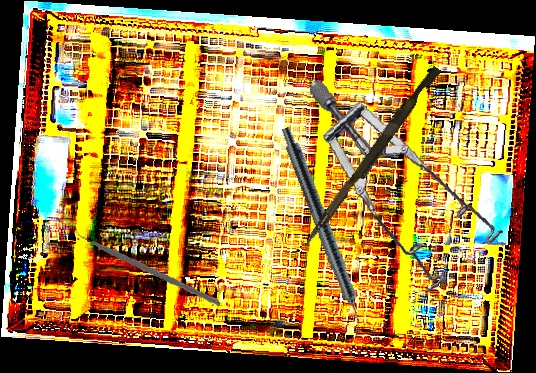Chopper: (74, 206, 220, 320)
Handpiece: (274, 125, 373, 339)
Pusher: (303, 62, 442, 251)
Speculum: (308, 55, 510, 306)
